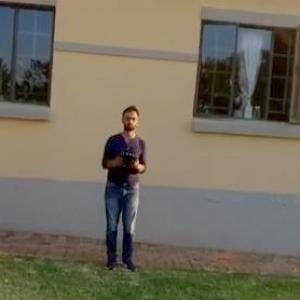follow: (93, 105, 147, 282)
